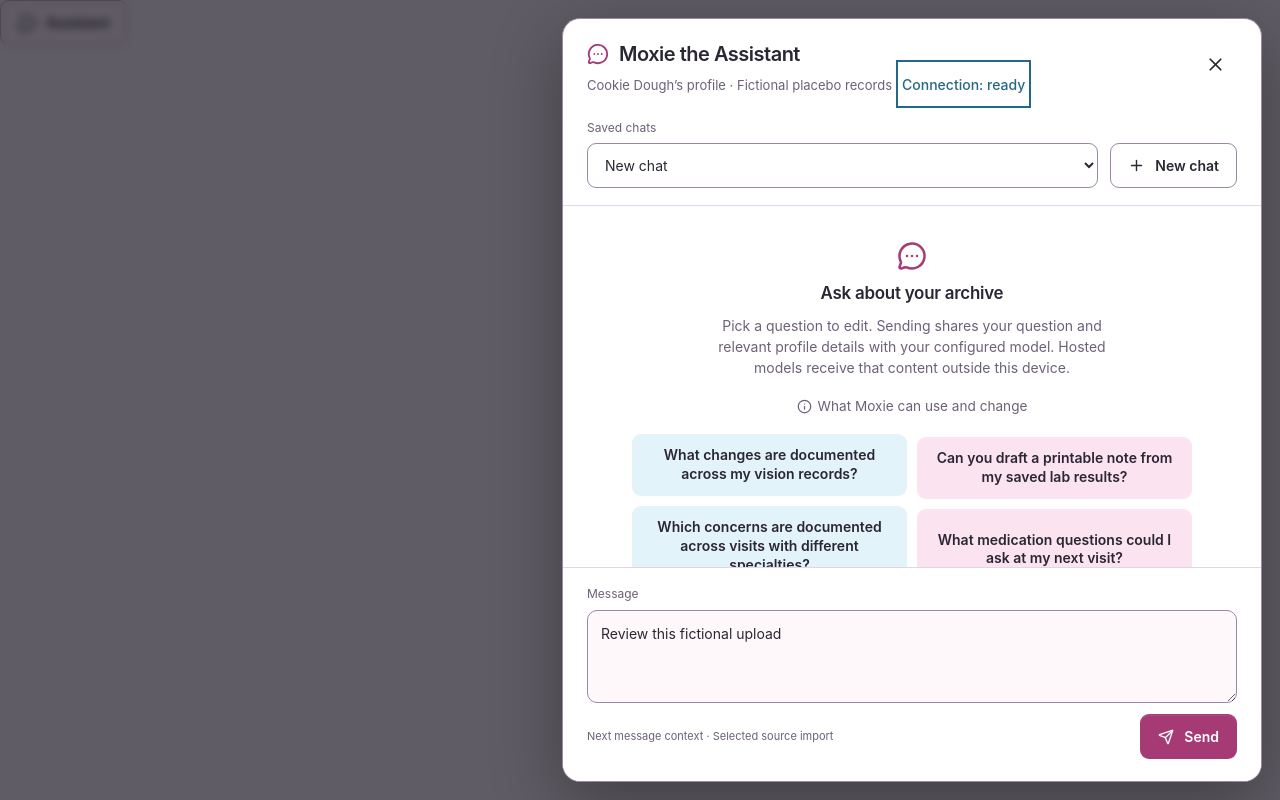
Archive assistant mounted behavior › only opens and prefills an intake request until Send is chosen
This screenshot has width=1280, height=800.
Expected: the text box labelled "Message" holds "Review this fictional upload", [587,610,1237,703]
Click the button "Send".
click(1189, 736)  # box [1140,714,1237,759]
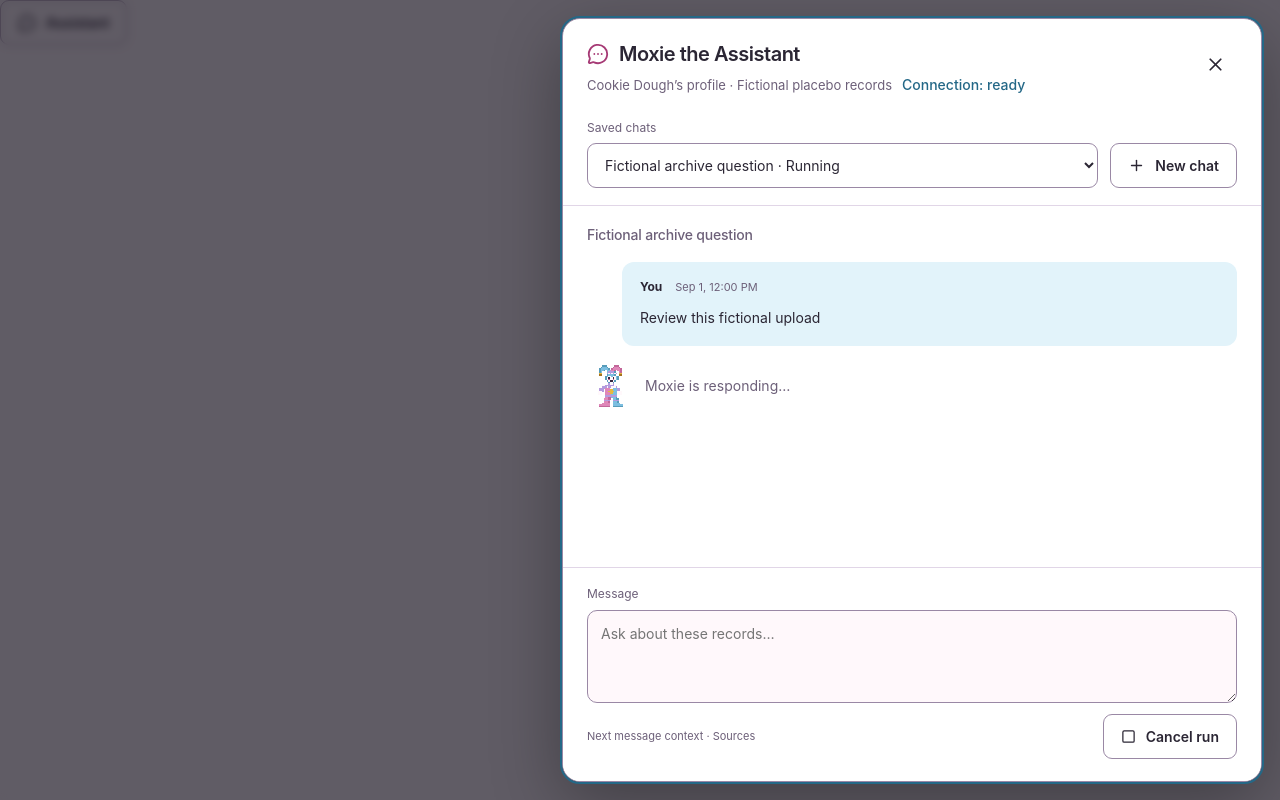
Result: the button "Cancel run" is shown at [1103,714,1237,759]
